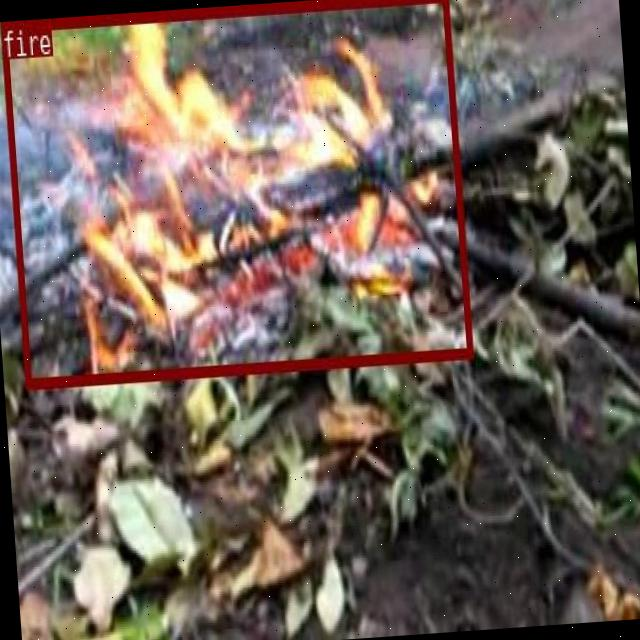fire: (0, 0, 472, 385)
